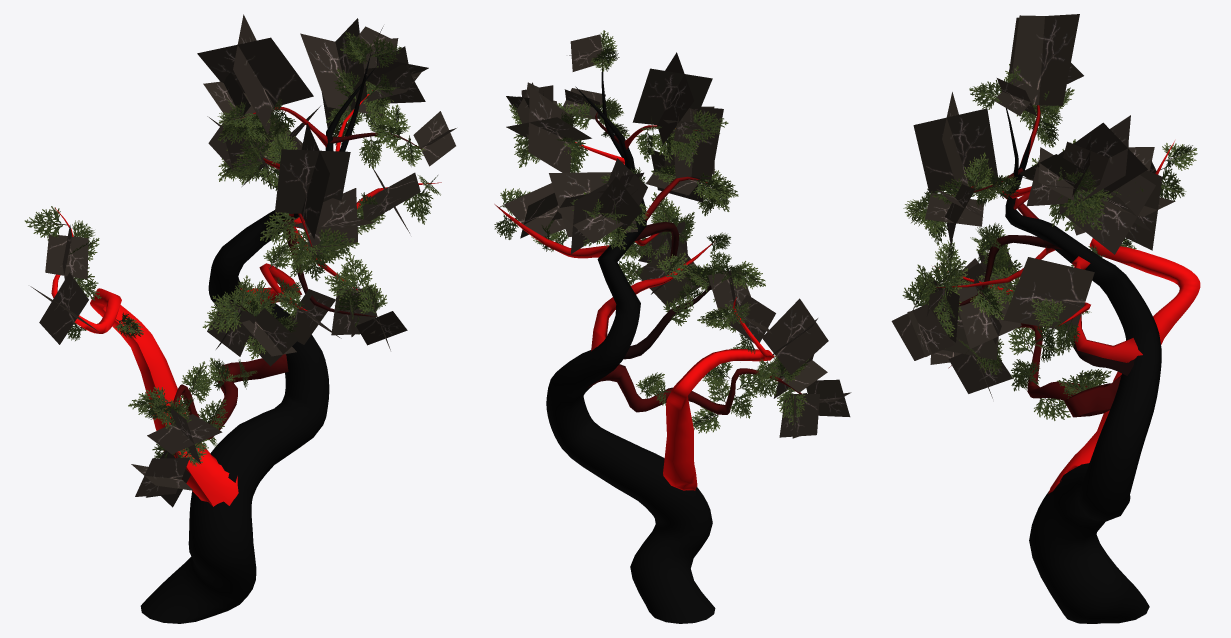
File: cpine1 lod0.FBX
The picture shows the model from 3 angles, left to right: view 1: azimuth 30°, elevation 25°; view 2: azimuth 150°, elevation 25°; view 3: azimuth 270°, elevation 25°; orthographic projection. The views are drawn at different scales.
Visible parts, largest first — view 1: cpine1; view 2: cpine1; view 3: cpine1.
Part boxes in pixels (left/top/right/bottom): cpine1: left=24, top=14, right=456, bottom=623; cpine1: left=494, top=30, right=851, bottom=623; cpine1: left=891, top=14, right=1200, bottom=623.
Bounding box in the file's own units: 79977 × 114183 × 56167.
